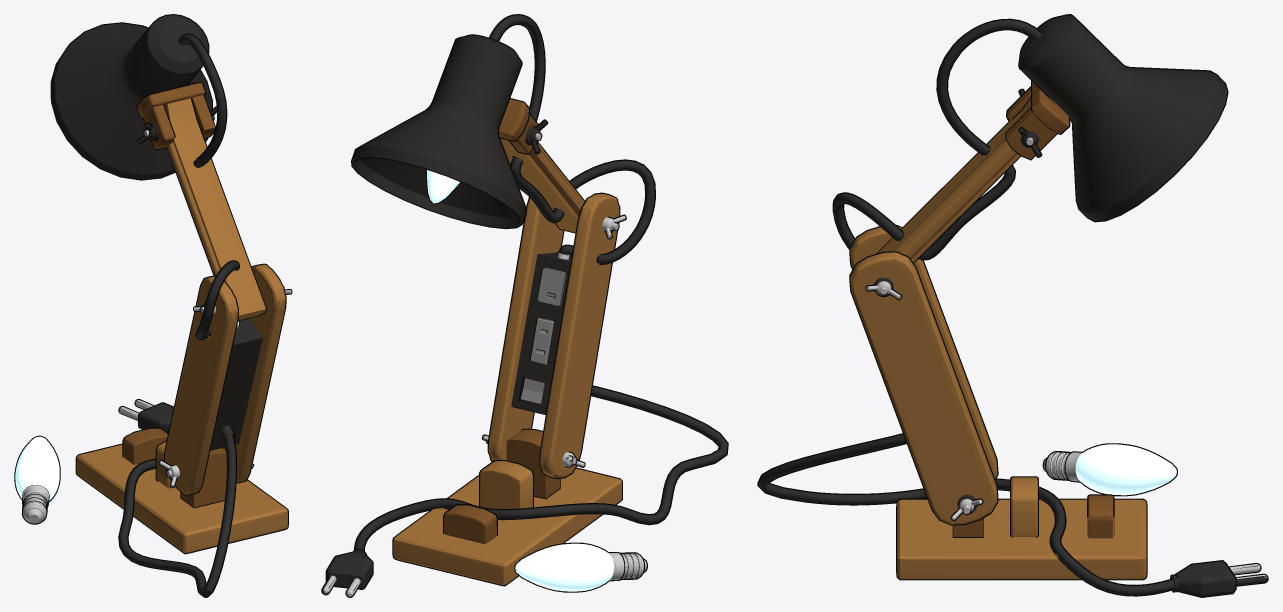
The picture shows the model from 3 angles, left to right: view 1: azimuth 30°, elevation 25°; view 2: azimuth 150°, elevation 25°; view 3: azimuth 270°, elevation 25°; orthographic projection. The views are drawn at different scales.
Parts seen in each view (by area): view 1: cable, cable.001; view 2: cable, cable.001; view 3: cable, cable.001.
Part boxes in pixels (box(x1,y1,x2,y2)): cable: box(15, 15, 291, 596); cable.001: box(14, 14, 292, 597); cable: box(322, 15, 727, 596); cable.001: box(321, 14, 728, 597); cable: box(758, 15, 1267, 596); cable.001: box(757, 14, 1268, 597).
Bounding box in the file's own units: 6.53 × 12.57 × 10.82.
